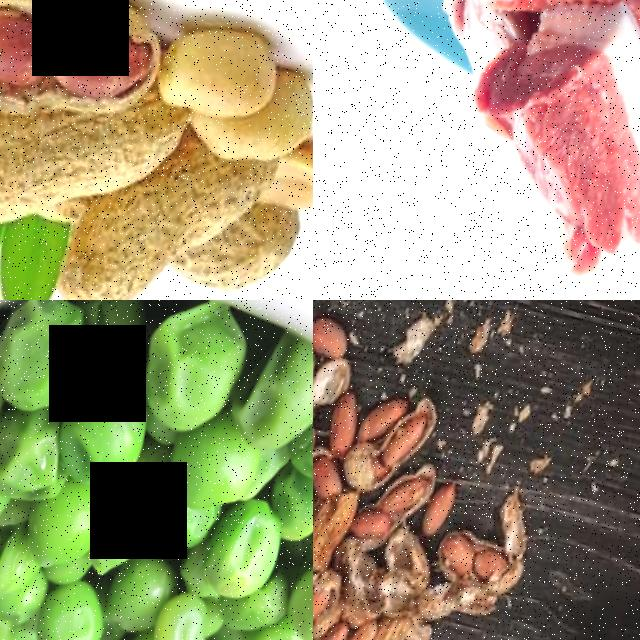peanuts: (151, 19, 285, 142), (52, 185, 192, 300), (0, 102, 97, 253), (185, 191, 312, 300), (32, 13, 153, 120), (0, 1, 54, 98), (313, 501, 359, 584), (320, 390, 369, 462), (313, 309, 357, 372), (420, 481, 462, 546), (352, 505, 399, 555), (439, 535, 483, 587), (468, 546, 512, 594), (313, 456, 349, 510)
peas: (0, 300, 313, 640)
pork belly: (426, 0, 640, 300), (433, 0, 640, 162)
